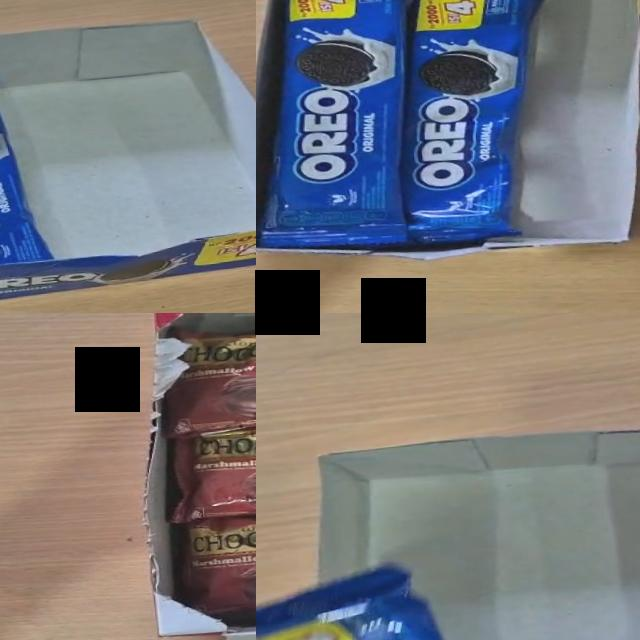Chocopie: (157, 313, 256, 434), (162, 415, 256, 521), (177, 497, 256, 616)
Oreo: (256, 0, 434, 252), (385, 0, 564, 246), (256, 545, 582, 640), (0, 67, 53, 273)
